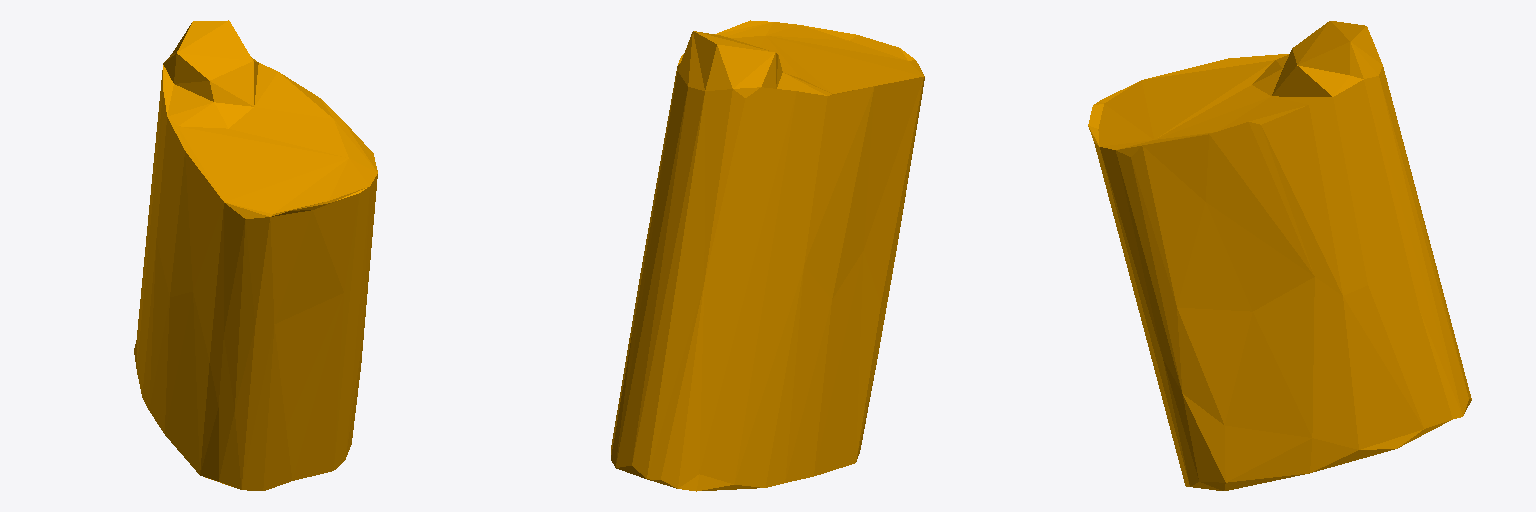
The robot description file, URDF, robot "LivioClassicOil_800_tex":
<?xml version="1.0"?>
<robot name="LivioClassicOil_800_tex">
  <link name="base_link">
    <contact>
      <lateral_friction value="1.0"/>
      <rolling_friction value="0.0"/>
      <contact_cfm value="0.0"/>
      <contact_erp value="1.0"/>
    </contact>
    <inertial>
      <mass value="0.0187366611444"/>
      <inertia ixx="1" ixy="0" ixz="0" iyy="1" iyz="0" izz="1"/>
    </inertial>
    <visual>
      <geometry>
        <mesh filename="LivioClassicOil_800_tex_visual.obj"/>
      </geometry>
    </visual>
    <collision>
      <geometry>
        <mesh filename="LivioClassicOil_800_tex_collision.obj"/>
      </geometry>
    </collision>
  </link>
</robot>

--- Render facts (derived) ---
The picture shows the robot from 3 angles, left to right: view 1: azimuth 30°, elevation 25°; view 2: azimuth 150°, elevation 25°; view 3: azimuth 270°, elevation 25°; orthographic projection.
Model LivioClassicOil_800_tex with 1 links and 0 joints (none), rooted at base_link, posed every joint at zero.
Visible links, largest first — view 1: base_link; view 2: base_link; view 3: base_link.
Boxes of the visible links, <box> form: base_link: <box>134,20,377,490</box>; base_link: <box>611,20,924,491</box>; base_link: <box>1088,21,1471,490</box>.
Bounding box of the posed robot: 0.0359 × 0.067 × 0.0838 m (x, y, z).
Meshes: 1 distinct files referenced, 1 mesh visuals loaded (1 OBJ).
